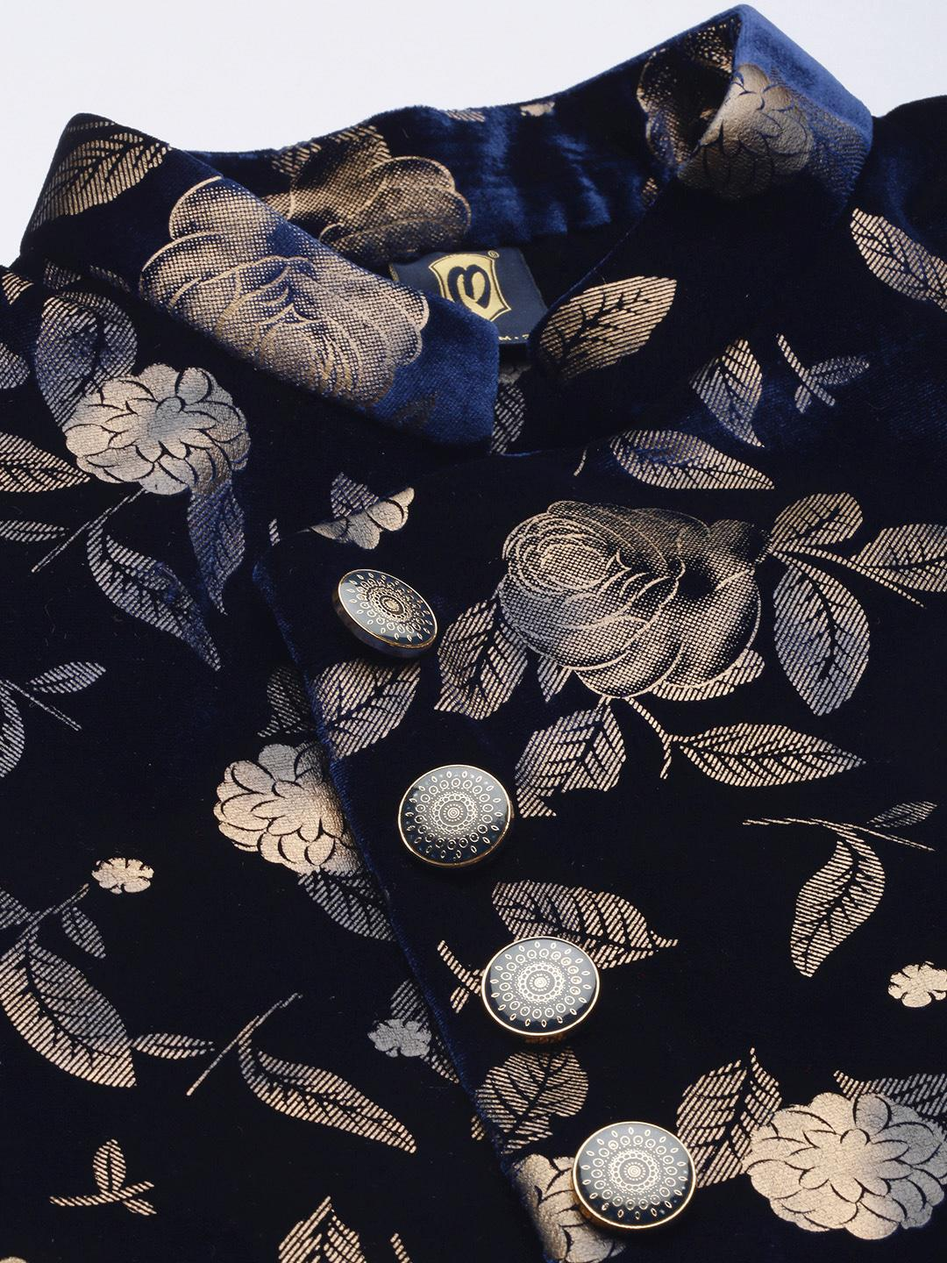Design Sherwani: (3, 7, 944, 1256)
